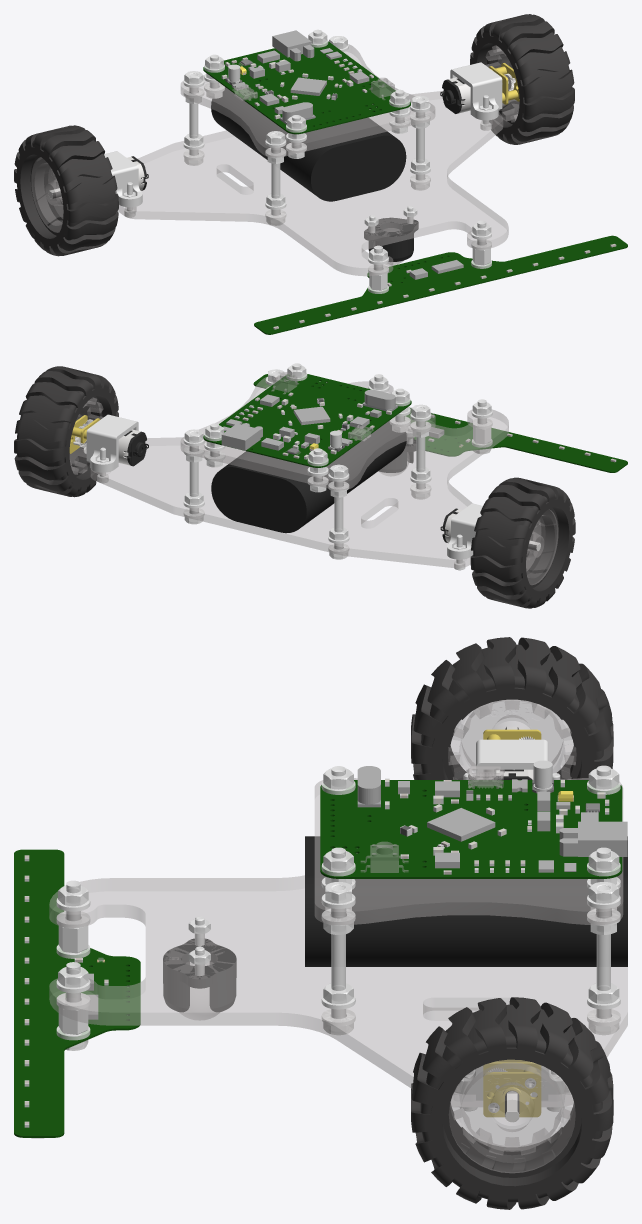
3 views of the same model, one above another, from view 1: azimuth 30°, elevation 25°; view 2: azimuth 150°, elevation 25°; view 3: azimuth 270°, elevation 25° (orthographic). The views are drawn at different scales.
Parts seen in each view (by area): view 1: base, pololu-wheel-42x19mm (×2), Board_3, battery, Board, top, bracket (×2), AS 1427 - M3 x 30(2) (×3), pololu-ball-caster-with-0-500in-ball, micro-metal-gearmotor-standard; view 2: base, pololu-wheel-42x19mm (×2), Board_3, battery, top, Board, bracket (×2), AS 1427 - M3 x 30(2) (×3), micro-metal-gearmotor-standard (×2), pololu-ball-caster-with-0-500in-ball; view 3: pololu-wheel-42x19mm (×2), base, Board_3, battery, Board, top, pololu-ball-caster-with-0-500in-ball, micro-metal-gearmotor-standard (×2), AS 1427 - M3 x 30(2) (×2), bracket (×2).
Part boxes in pixels (x1,y1,x2,y2): base: (118,91,508,276); pololu-wheel-42x19mm (×2): (14,14,574,256); Board_3: (203,30,410,134); battery: (211,87,406,201); Board: (254,235,627,334); top: (180,44,435,157); bracket (×2): (104,62,502,207); AS 1427 - M3 x 30(2) (×3): (184,73,429,225); pololu-ball-caster-with-0-500in-ball: (364,217,418,265); micro-metal-gearmotor-standard: (440,63,519,113); base: (90,381,508,568); pololu-wheel-42x19mm (×2): (14,366,575,608); Board_3: (203,372,411,467); battery: (211,421,406,533); top: (180,377,435,490); Board: (253,374,627,472); bracket (×2): (86,414,482,559); AS 1427 - M3 x 30(2) (×3): (184,407,430,559); micro-metal-gearmotor-standard (×2): (69,415,540,551); pololu-ball-caster-with-0-500in-ball: (378,437,416,476); pololu-wheel-42x19mm (×2): (411,637,613,1209); base: (49,875,627,1106); Board_3: (320,760,627,878); battery: (305,836,627,966); Board: (14,849,140,1138); top: (314,778,623,925); pololu-ball-caster-with-0-500in-ball: (163,938,236,1020); micro-metal-gearmotor-standard (×2): (483,726,541,1122); AS 1427 - M3 x 30(2) (×2): (323,886,619,1035); bracket (×2): (454,739,569,1100).
Bounding box in the file's own units: 19.57 × 4.87 × 12.73.
